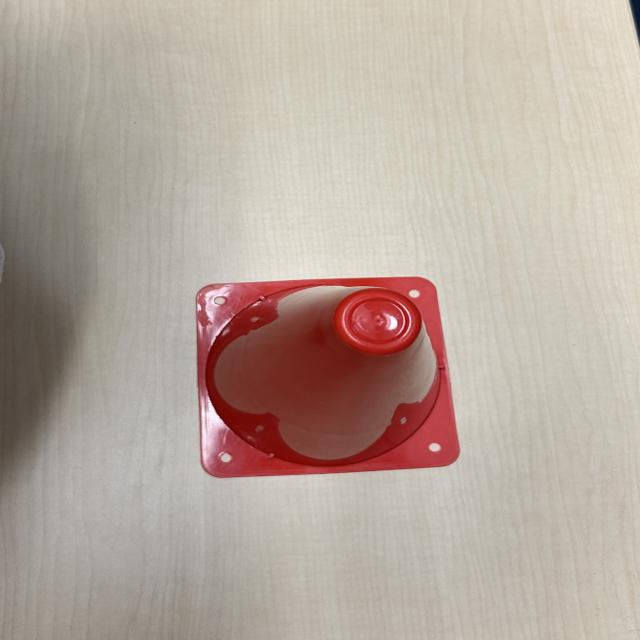orange cone: (181, 264, 480, 484)
